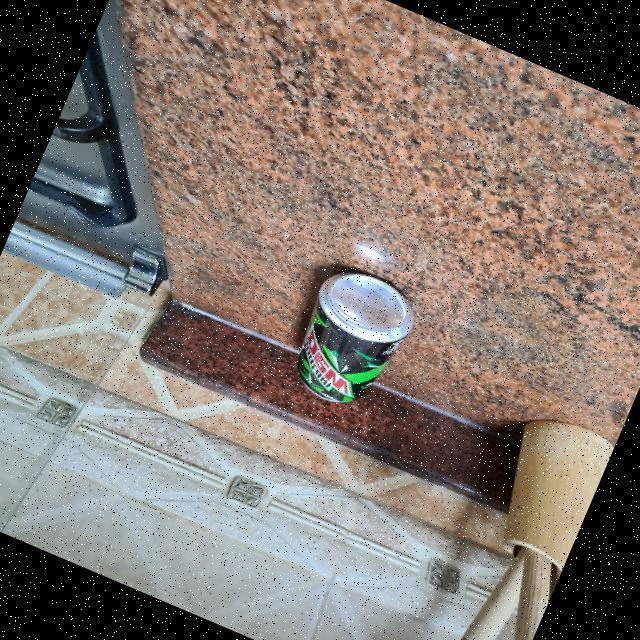can: (278, 256, 426, 421)
